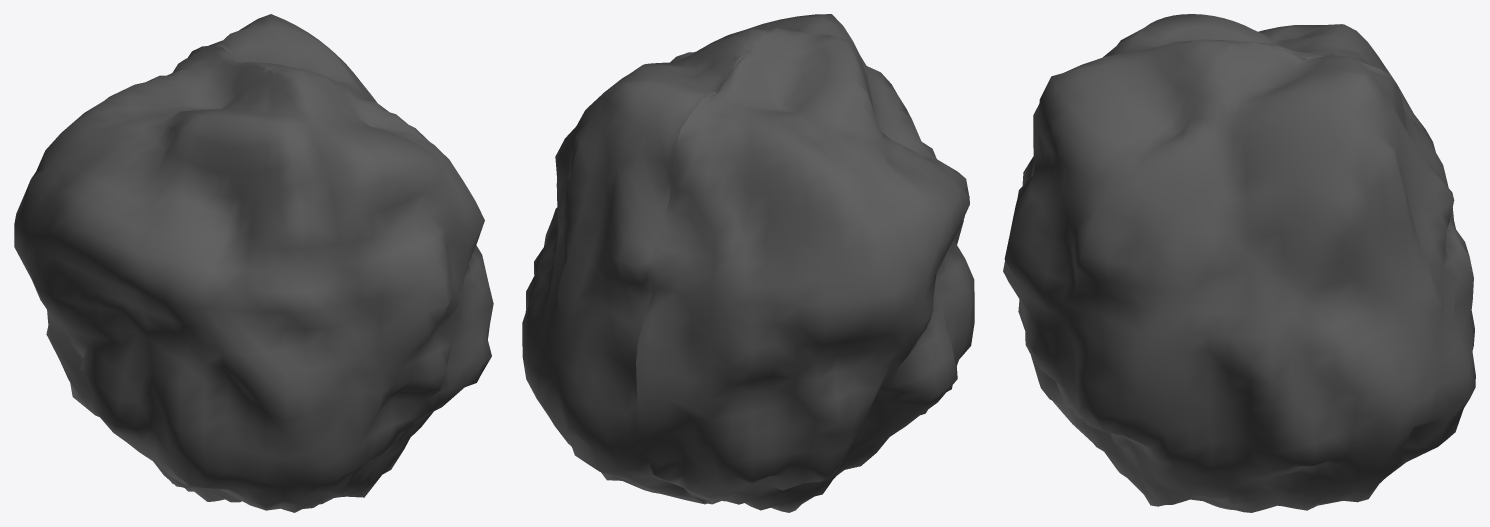
File: astereoid2.fbx
The picture shows the model from 3 angles, left to right: view 1: azimuth 30°, elevation 25°; view 2: azimuth 150°, elevation 25°; view 3: azimuth 270°, elevation 25°; orthographic projection. The views are drawn at different scales.
Parts seen in each view (by area): view 1: Landscape; view 2: Landscape; view 3: Landscape.
Boxes of the visible parts, bbox=[...] form: Landscape: bbox=[14, 14, 493, 512]; Landscape: bbox=[522, 14, 974, 512]; Landscape: bbox=[1003, 14, 1475, 512].
Size of the model in its own units: 735 by 768 by 727.
